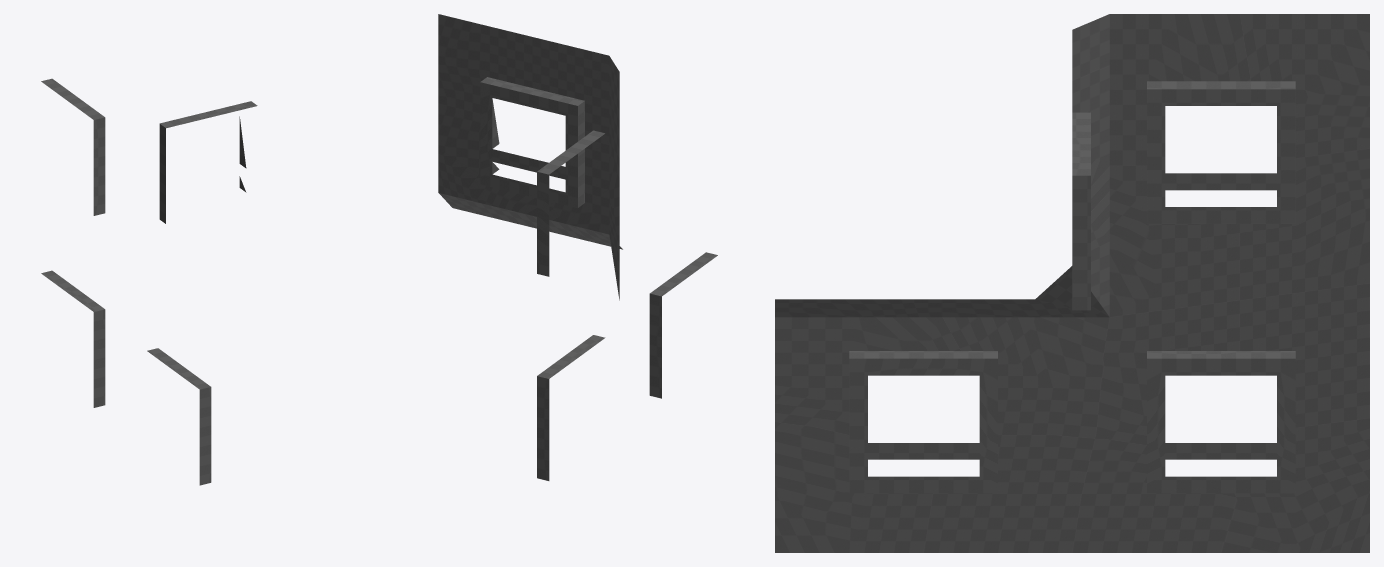
3 views of the same model, side by side, from view 1: azimuth 30°, elevation 25°; view 2: azimuth 150°, elevation 25°; view 3: azimuth 270°, elevation 25° (orthographic). The views are drawn at different scales.
Parts seen in each view (by area): view 1: 4; view 2: 4; view 3: 4.
Part boxes in pixels (<box>): 4: <box>41,78,257,485</box>; 4: <box>438,14,717,480</box>; 4: <box>775,14,1369,552</box>.
Size of the model in its own units: 2 by 4 by 4.
Materials: 2 (2 with a texture image).
